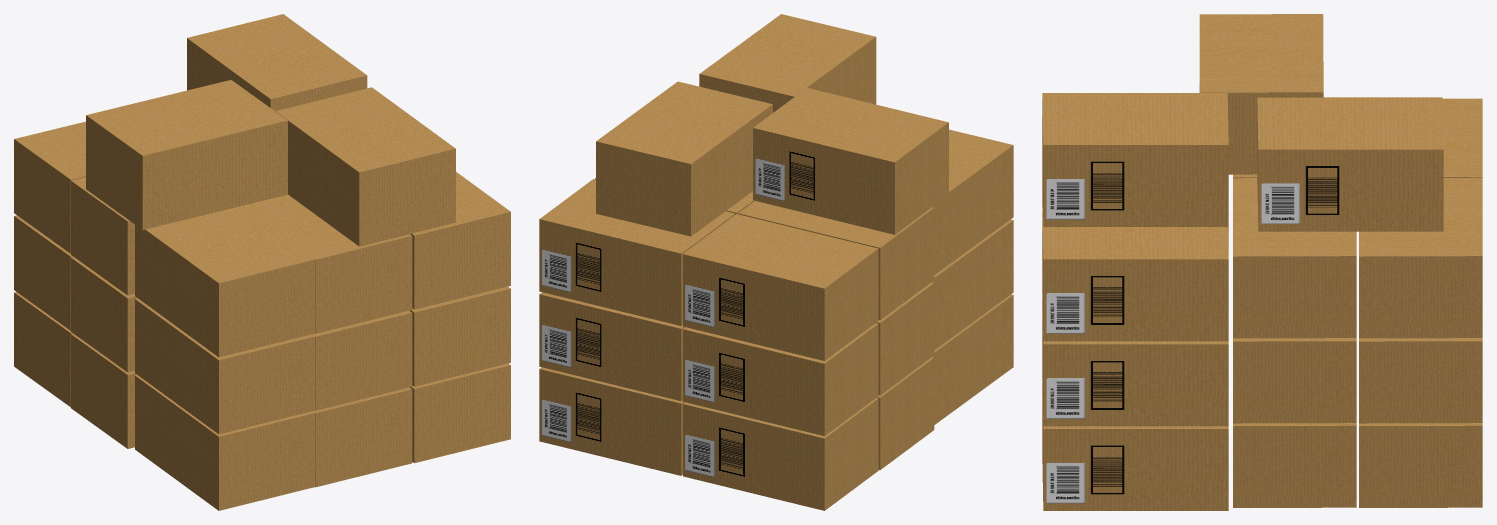
Rendered from ClutteringC_01.glb.
3 views of the same model, side by side, from view 1: azimuth 30°, elevation 25°; view 2: azimuth 150°, elevation 25°; view 3: azimuth 270°, elevation 25° (orthographic). The views are drawn at different scales.
Visible parts, largest first — view 1: aws_robomaker_warehouse_ClutteringC_01_visual; view 2: aws_robomaker_warehouse_ClutteringC_01_visual; view 3: aws_robomaker_warehouse_ClutteringC_01_visual.
Boxes of the visible parts, bbox=[...] form: aws_robomaker_warehouse_ClutteringC_01_visual: bbox=[14, 14, 510, 510]; aws_robomaker_warehouse_ClutteringC_01_visual: bbox=[539, 14, 1013, 510]; aws_robomaker_warehouse_ClutteringC_01_visual: bbox=[1042, 14, 1482, 510].
Size of the model in its own units: 1.77 by 1.72 by 2.05.
Materials: 3 (3 with a texture image).
